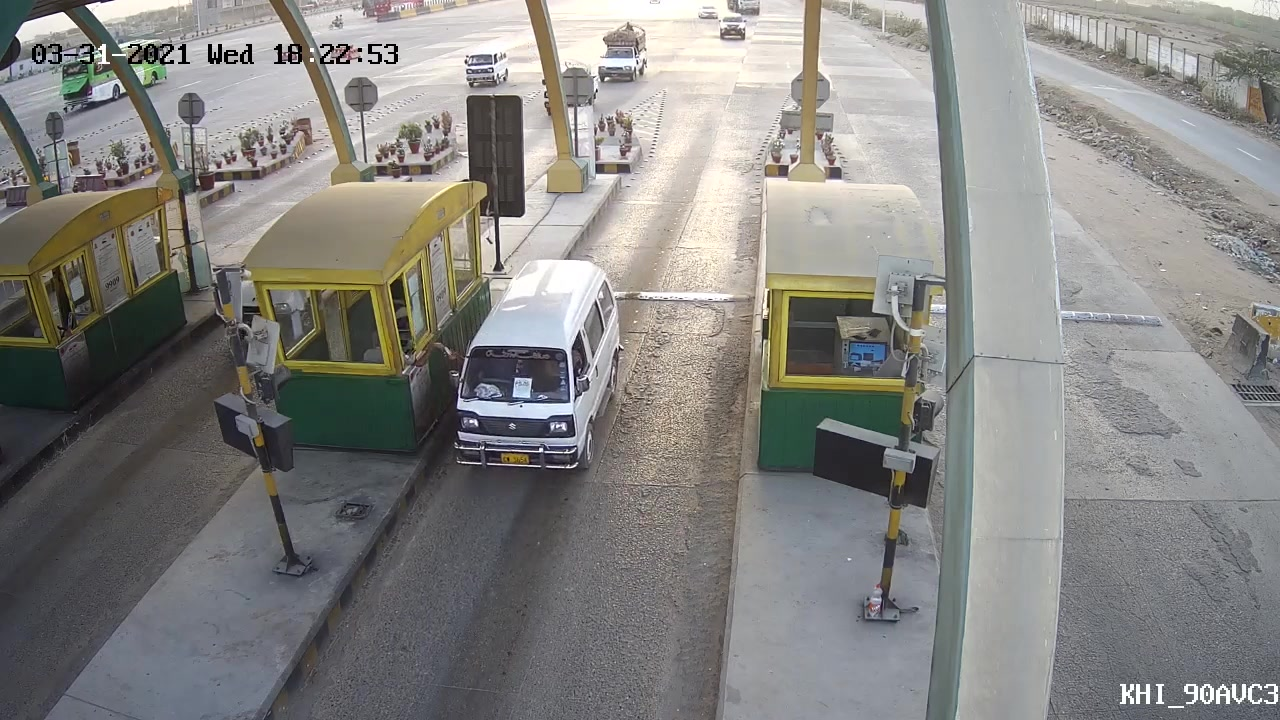F1: (448, 252, 627, 479)
